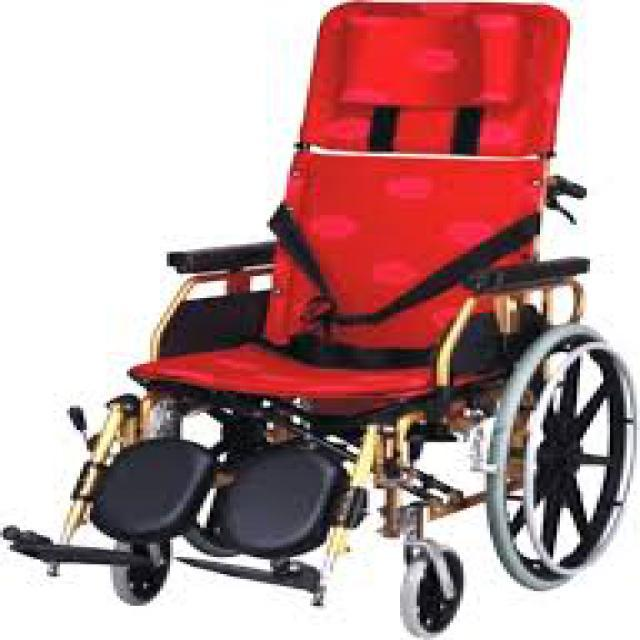wheelchair: (0, 0, 630, 638)
